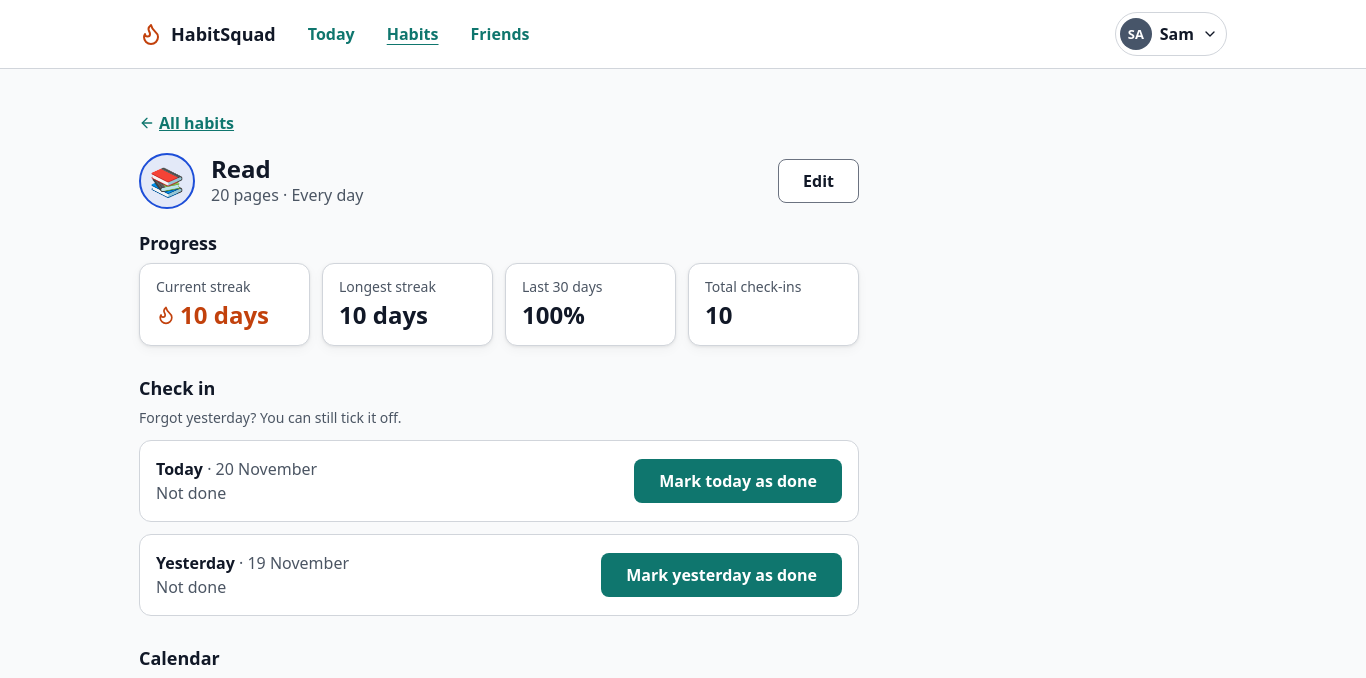
Scenario: HabitDetailPage › checks in for today and shows the new stats
This screenshot has width=1366, height=678.
Check: the heading "Read" is shown, box x1=211 y1=152 x2=271 y2=185
Click the button "Mark today as done" at (738, 481), box x1=634 y1=459 x2=842 y2=503
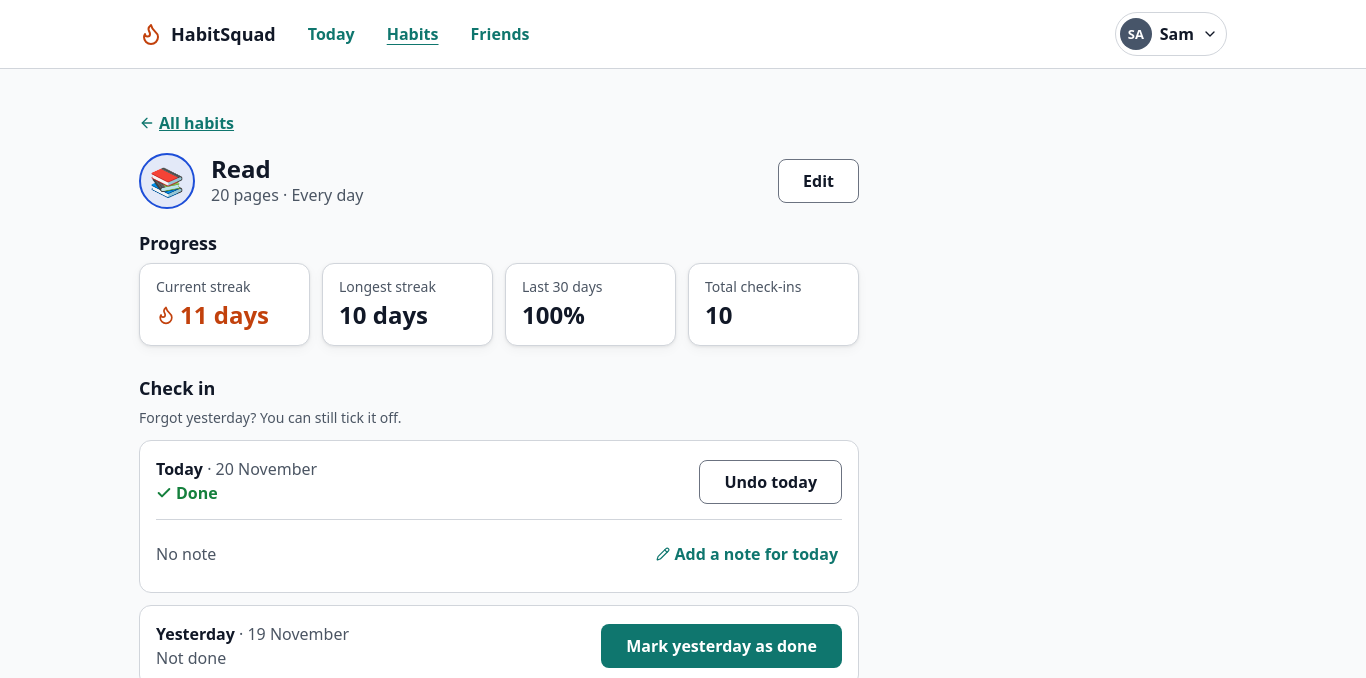
Check: the button "Undo today" is shown, box x1=700 y1=460 x2=842 y2=504
Check: the element showing "11 days" is shown, box x1=156 y1=298 x2=269 y2=331
